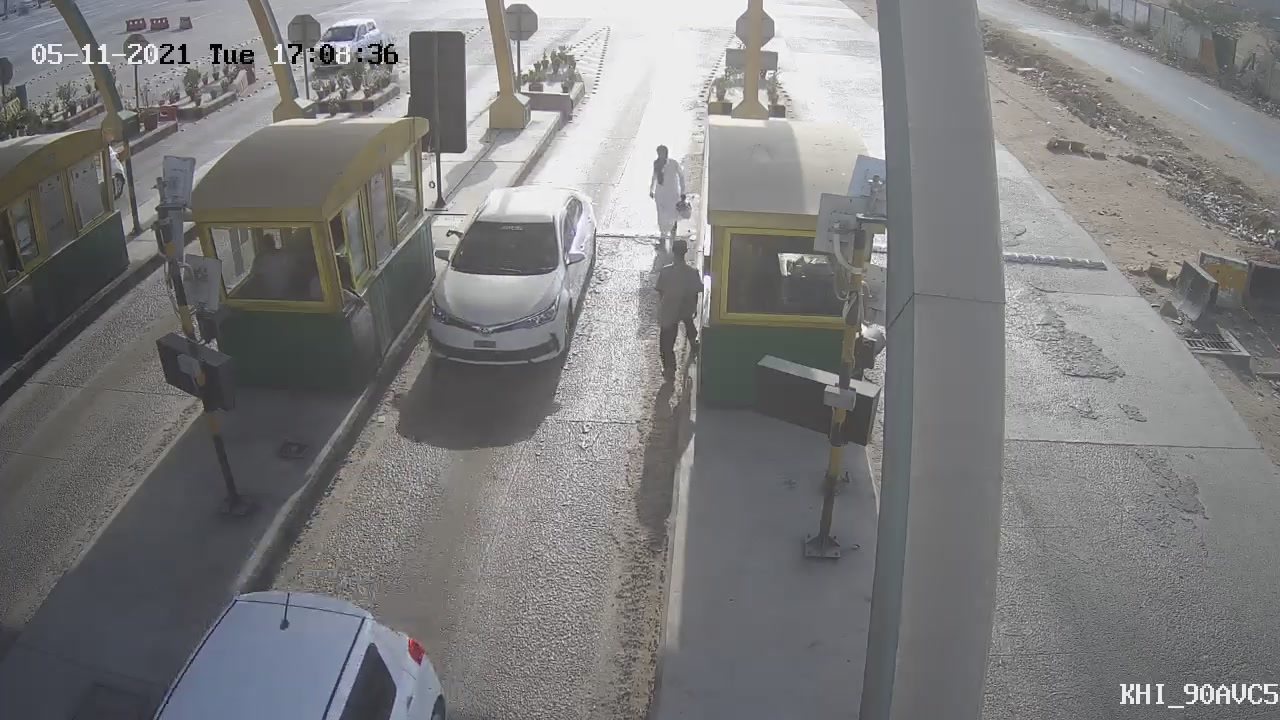F1: (400, 164, 624, 390)
